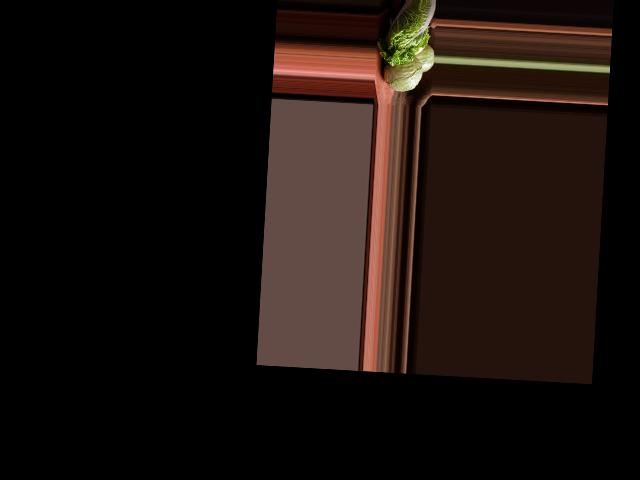lettuce: (374, 1, 433, 68)
